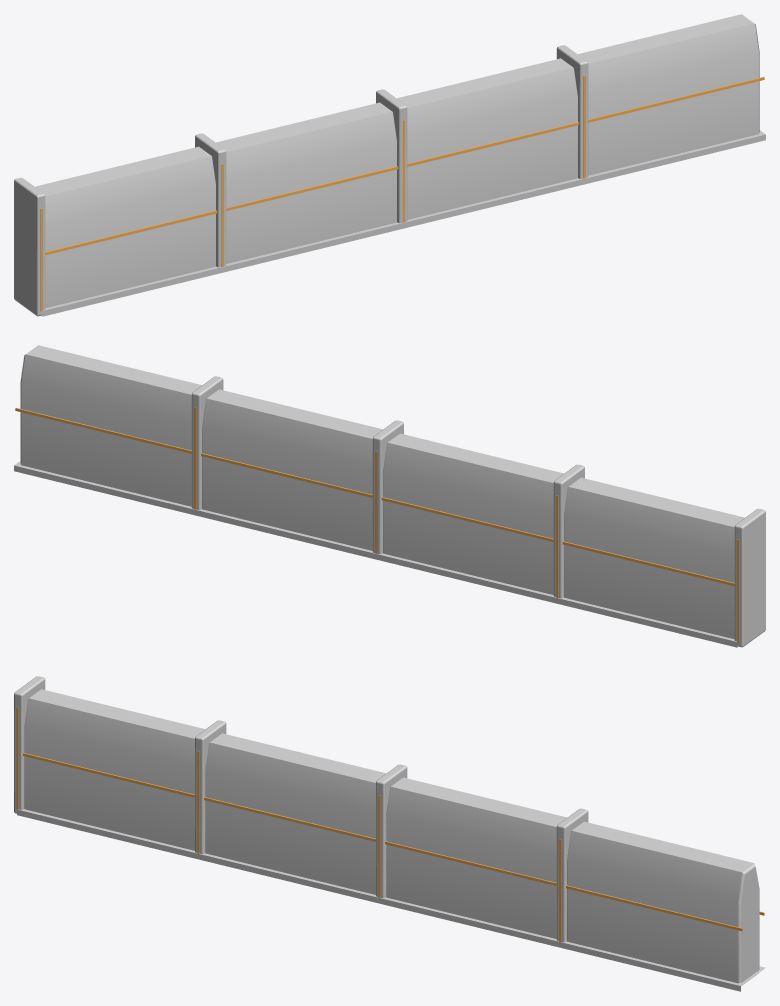
Rendered from FutureWall.glb.
3 renders of one model, top to bottom at view 1: azimuth 30°, elevation 25°; view 2: azimuth 150°, elevation 25°; view 3: azimuth 330°, elevation 25°, orthographic.
Parts seen in each view (by area): view 1: Body, Glow; view 2: Body, Glow; view 3: Body, Glow.
Part boxes in pixels (x1,y1,x2,y2): Body: (14,14,765,316); Glow: (40,76,764,310); Body: (14,345,765,647); Glow: (15,407,739,641); Body: (14,676,765,991); Glow: (16,706,764,941).
Size of the model in its own units: 40.25 by 6.4 by 2.4.
